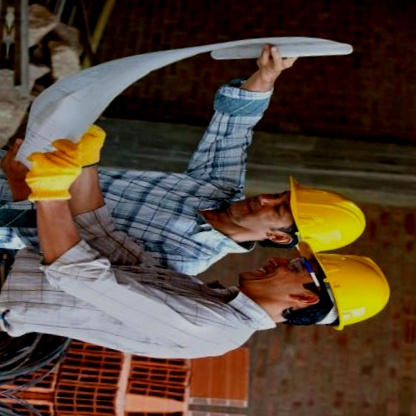yellow: (272, 171, 375, 263), (299, 246, 398, 337)
